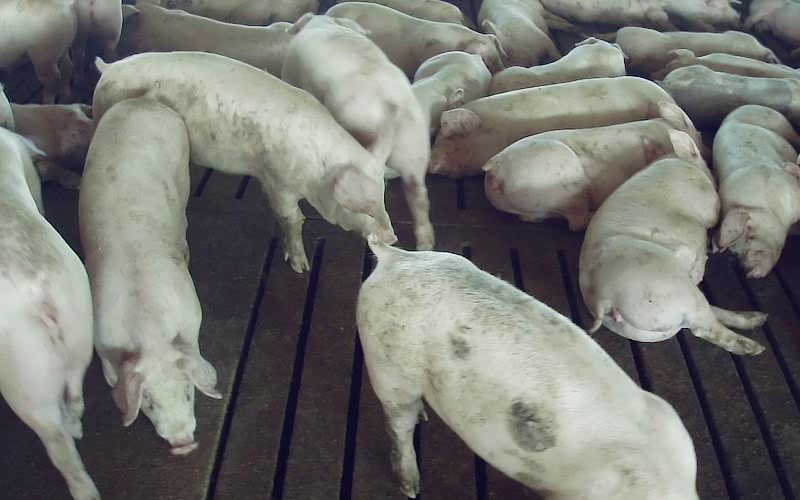pig: (357, 238, 695, 499), (80, 96, 219, 454), (579, 130, 764, 353), (282, 15, 433, 249), (483, 101, 695, 229), (429, 76, 671, 176), (713, 105, 799, 277), (326, 2, 503, 77), (119, 3, 292, 76), (660, 65, 799, 129), (593, 27, 778, 74), (489, 37, 624, 94), (411, 51, 491, 136), (477, 0, 573, 66)
